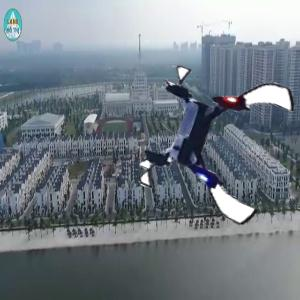drone: (144, 64, 294, 214)
